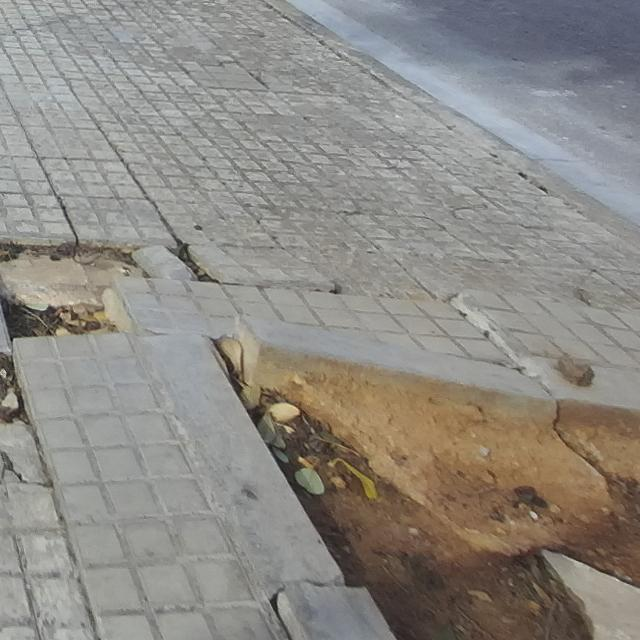calcada_quebrada: (0, 434, 52, 492)
